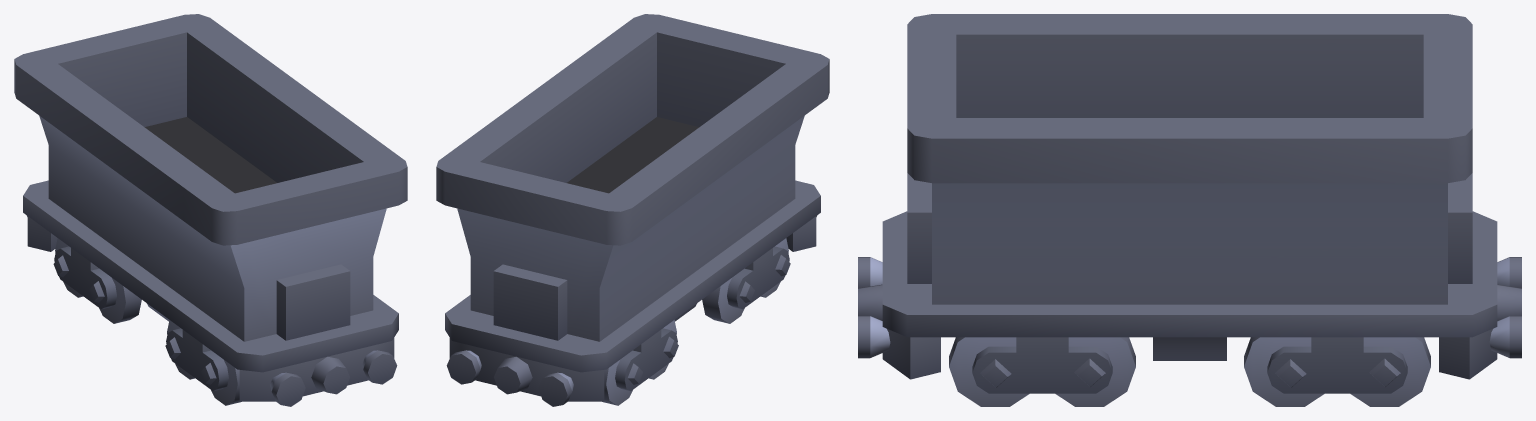
The model's file is train-carriage-box.glb.
The picture shows the model from 3 angles, left to right: view 1: azimuth 30°, elevation 25°; view 2: azimuth 150°, elevation 25°; view 3: azimuth 270°, elevation 25°; orthographic projection. The views are drawn at different scales.
Parts seen in each view (by area): view 1: train-carriage-box, wheels-back, wheels-front; view 2: train-carriage-box, wheels-front, wheels-back; view 3: train-carriage-box, wheels-front, wheels-back.
Boxes of the visible parts, x1,y1,x2,y2 form: train-carriage-box: (14, 14, 407, 406); wheels-back: (53, 238, 141, 323); wheels-front: (165, 320, 241, 405); train-carriage-box: (436, 14, 829, 406); wheels-front: (702, 238, 790, 323); wheels-back: (602, 320, 678, 405); train-carriage-box: (858, 14, 1521, 379); wheels-front: (949, 337, 1135, 406); wheels-back: (1244, 337, 1430, 406).
Bounding box in the file's own units: 1.2 × 1.3 × 2.7.
